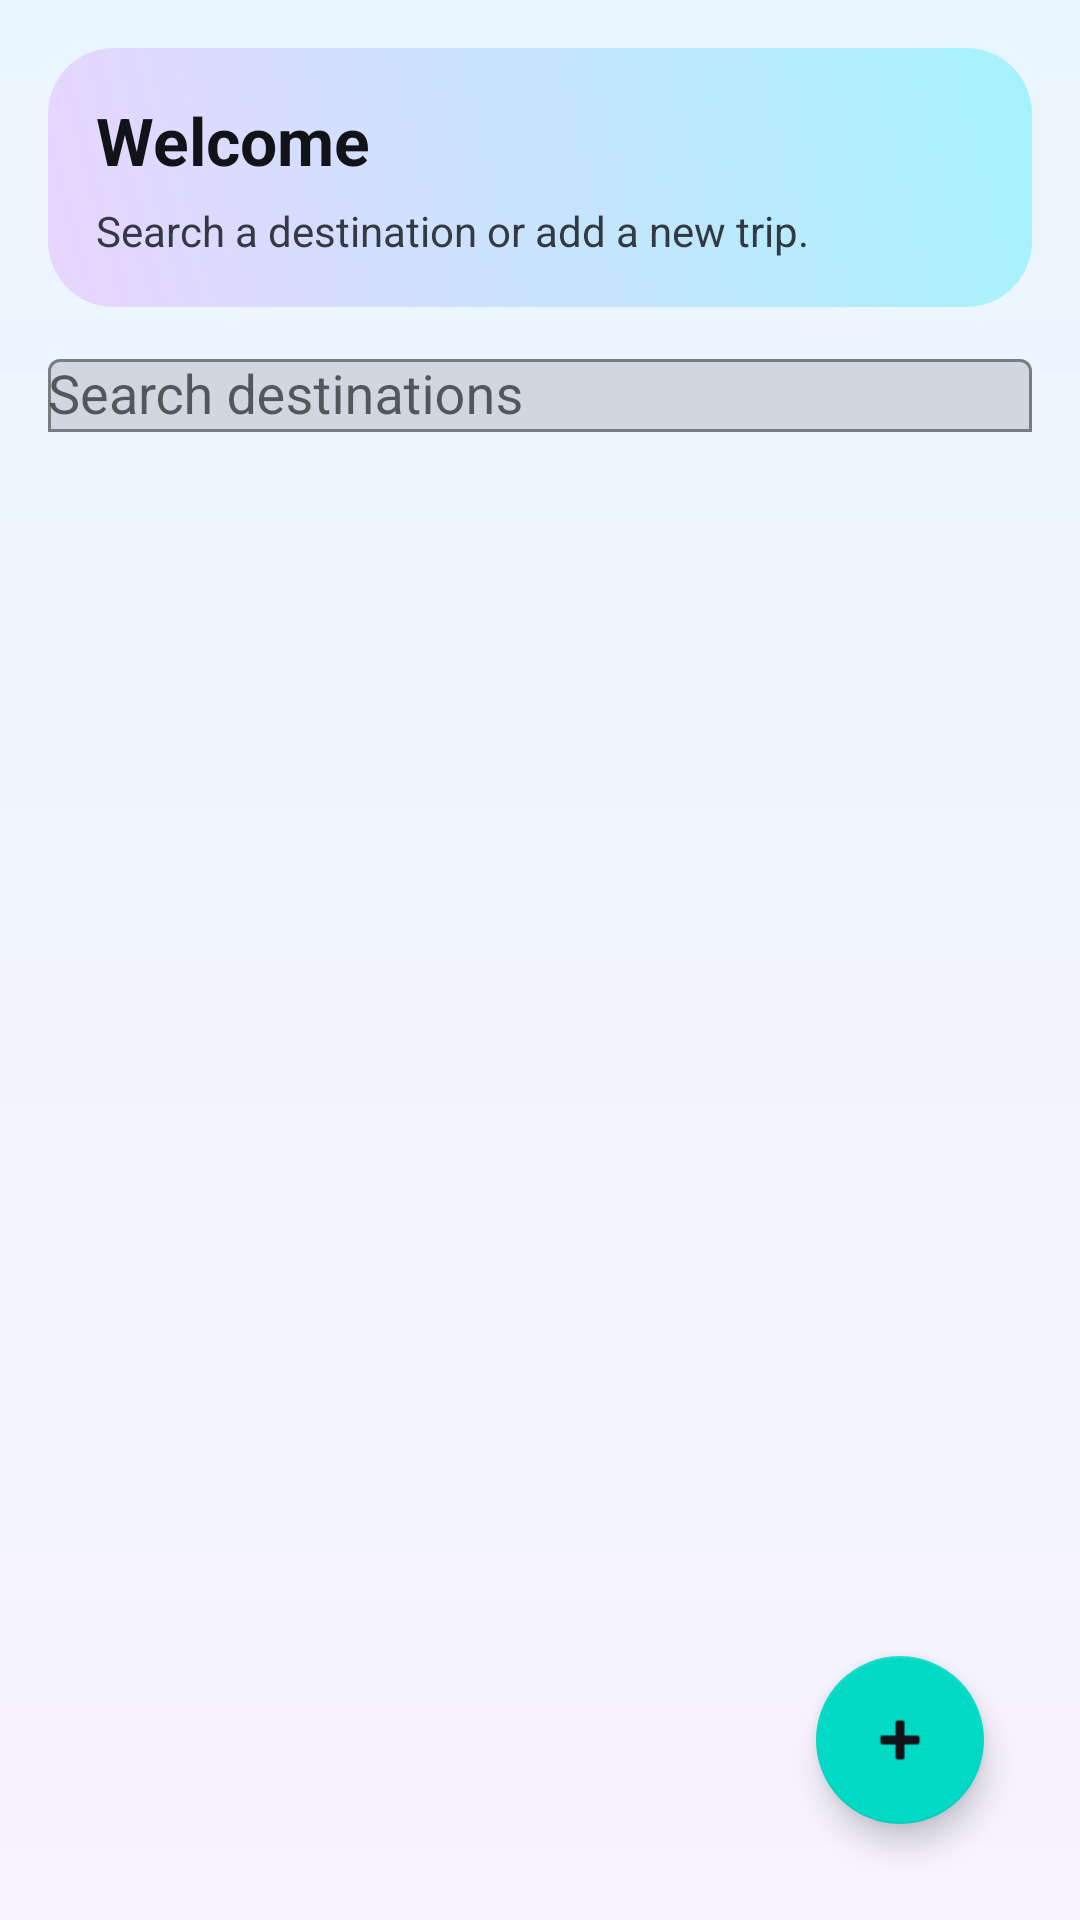

Icons on this 1080px×1920px Android screen, each with its box as [left=x1, top=y1, right=x2, bottom=y2]:
Add Trip: [left=816, top=1656, right=984, bottom=1824]
